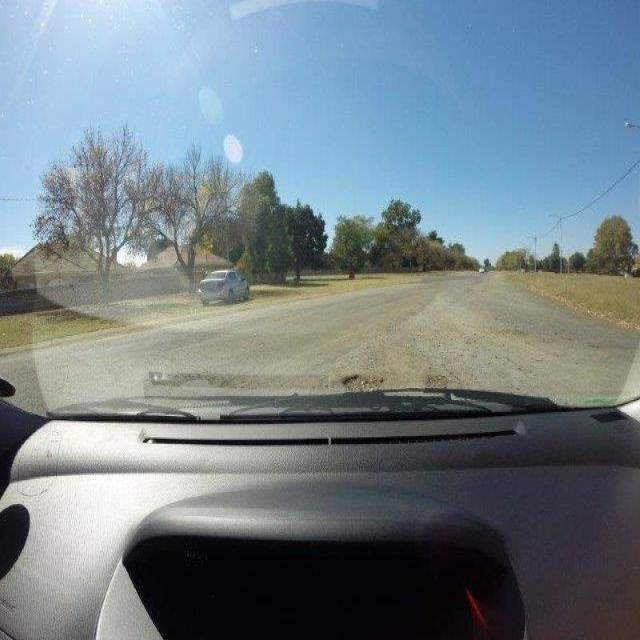lubang: (334, 371, 390, 406), (420, 369, 448, 402)
